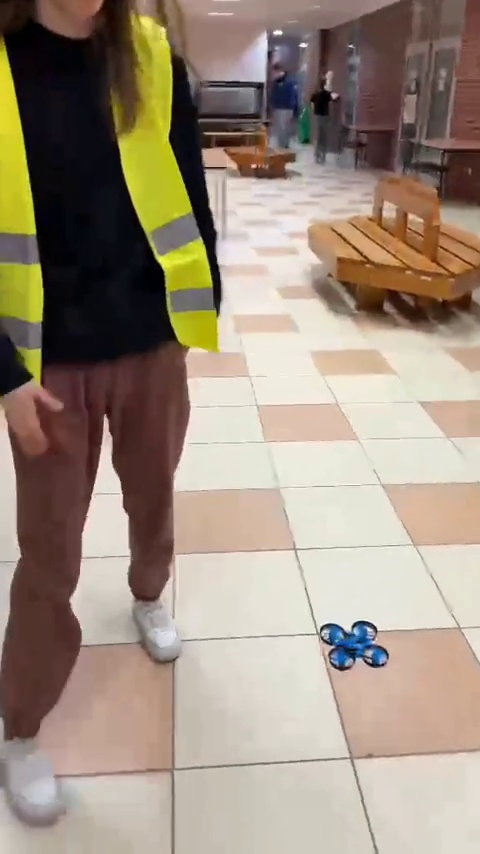drone: (322, 619, 388, 674)
no vest: (257, 58, 300, 152), (305, 76, 342, 161)
vest: (0, 3, 216, 824)
